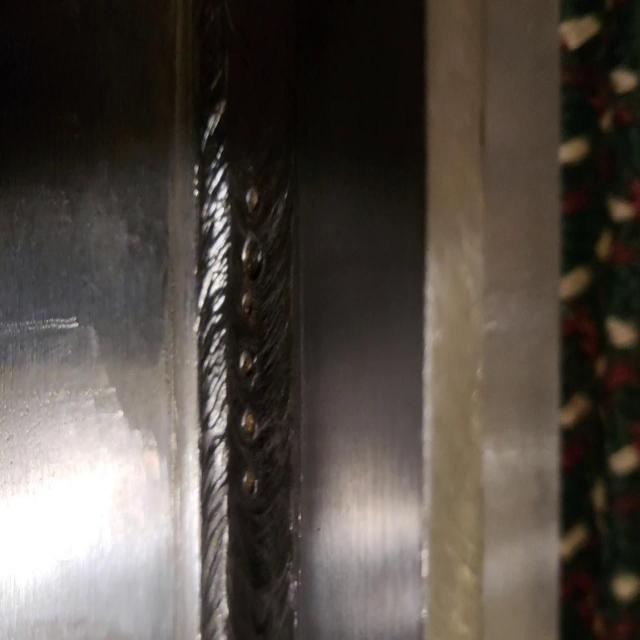Welding Line: (202, 0, 304, 640)
Workpiece: (0, 7, 554, 640)
porosity: (237, 184, 267, 499)
